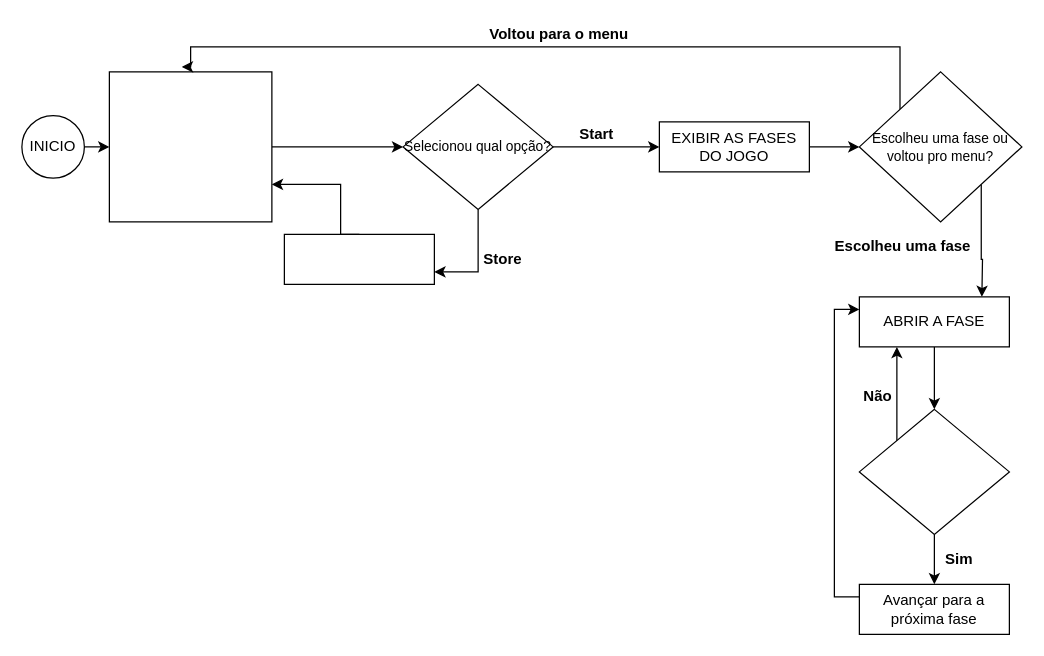
Some shapes in this 1044 by 656 pixel diagram are drawn without their labels. The shapes that lost their labels are listed below. From the top down, each one's centre as x and y in pixels, then its label:
the point at 190,146: EXIBIR O MENU PRINCIPAL COM AS SEGUINTES OPÇÕES: Start Store
the point at 358,258: EXIBIR A LOJA DO JOGO
the point at 933,471: Concluiu a fase?
